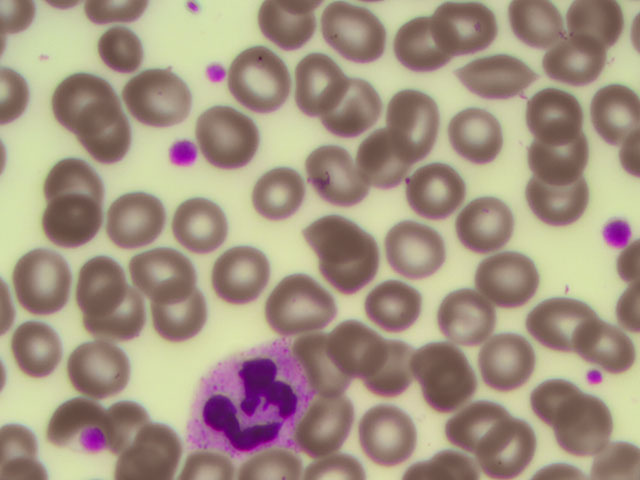Platelets: (597, 214, 633, 252), (168, 139, 201, 167), (82, 423, 108, 456), (204, 58, 228, 89), (183, 2, 210, 21), (586, 372, 600, 384)
RBC: (48, 71, 115, 131), (66, 101, 133, 161), (127, 65, 194, 125), (103, 27, 170, 87), (195, 105, 262, 165), (228, 48, 295, 108), (277, 46, 344, 106), (312, 80, 379, 140), (320, 5, 387, 65), (389, 18, 456, 78), (429, 6, 496, 66), (462, 41, 529, 101), (529, 31, 596, 91), (554, 1, 621, 61), (518, 77, 585, 137), (526, 124, 593, 184), (523, 169, 590, 229), (573, 88, 640, 148), (441, 106, 508, 166), (381, 86, 448, 146), (358, 129, 425, 189), (298, 143, 365, 203), (250, 162, 317, 222), (169, 197, 236, 257), (100, 185, 167, 245), (48, 191, 115, 251), (47, 146, 114, 206), (117, 236, 184, 296), (71, 247, 138, 307), (80, 286, 147, 346), (7, 249, 74, 309), (6, 312, 73, 372), (59, 344, 126, 404), (39, 365, 106, 425), (97, 392, 164, 452), (122, 412, 189, 472), (299, 393, 366, 453), (296, 328, 363, 388), (328, 314, 395, 374), (358, 336, 425, 396), (263, 268, 330, 328), (213, 243, 280, 303), (303, 195, 370, 255), (320, 231, 387, 291), (381, 214, 448, 274), (399, 166, 466, 226), (460, 200, 527, 260), (468, 243, 535, 303), (514, 286, 581, 346), (556, 310, 623, 370), (438, 289, 505, 349), (467, 321, 534, 381), (426, 334, 493, 394), (439, 389, 506, 449), (553, 397, 620, 457), (518, 369, 585, 429), (489, 420, 556, 480), (365, 404, 432, 464), (259, 1, 326, 60), (519, 1, 586, 60), (600, 444, 640, 480)
WBC: (192, 340, 310, 448)
